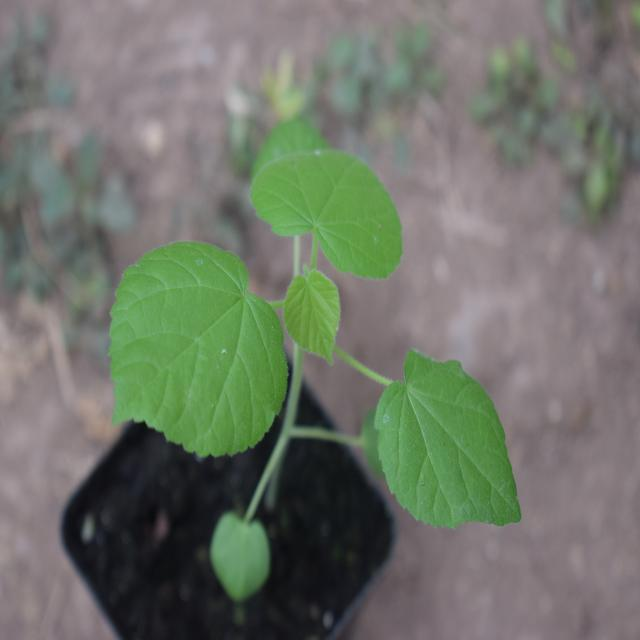abutilon theophrasti: (103, 132, 539, 546)
